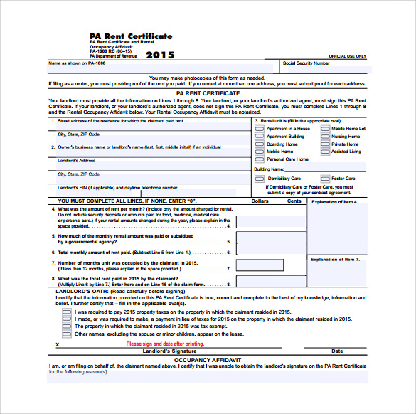checkbox: (319, 146, 332, 156), (60, 329, 73, 338), (60, 321, 73, 329), (253, 155, 266, 163), (254, 146, 265, 155), (254, 174, 265, 183), (319, 140, 333, 147), (61, 307, 73, 315), (254, 124, 266, 132), (319, 132, 331, 140), (319, 174, 331, 182), (60, 315, 73, 322), (253, 132, 266, 139), (321, 124, 331, 132), (254, 140, 265, 146)
textbox: (46, 369, 370, 384), (44, 154, 254, 174), (47, 58, 282, 75), (305, 195, 370, 256), (46, 114, 253, 133), (46, 127, 253, 146), (46, 141, 253, 159), (44, 169, 254, 186), (304, 252, 370, 289), (139, 180, 255, 199), (275, 56, 370, 76), (43, 181, 143, 200), (234, 213, 308, 230), (233, 229, 311, 244), (233, 241, 309, 256), (234, 273, 310, 288), (233, 256, 287, 272)
textline: (55, 338, 284, 351), (282, 161, 368, 174), (302, 338, 368, 351)
